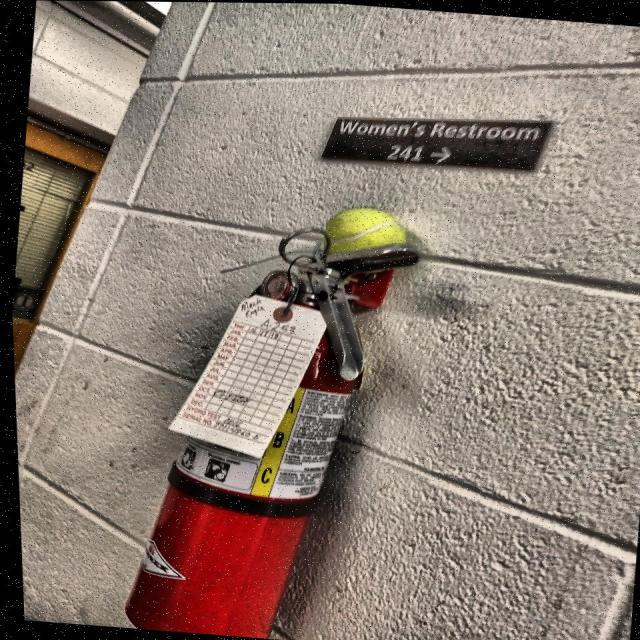tennis-ball: (319, 202, 415, 271)
